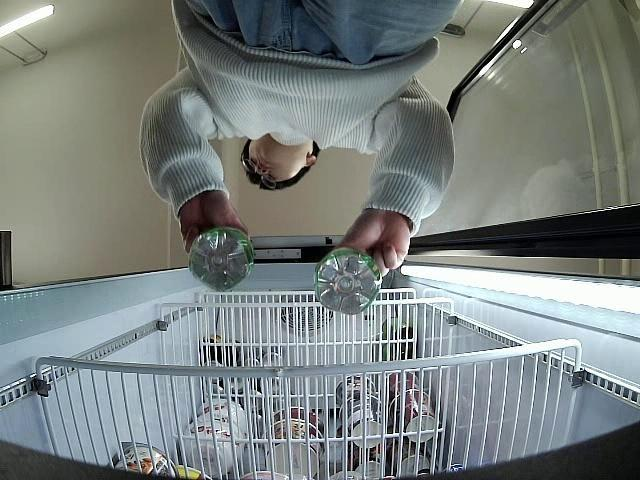18_trevi: (314, 248, 382, 316), (189, 227, 253, 290)
